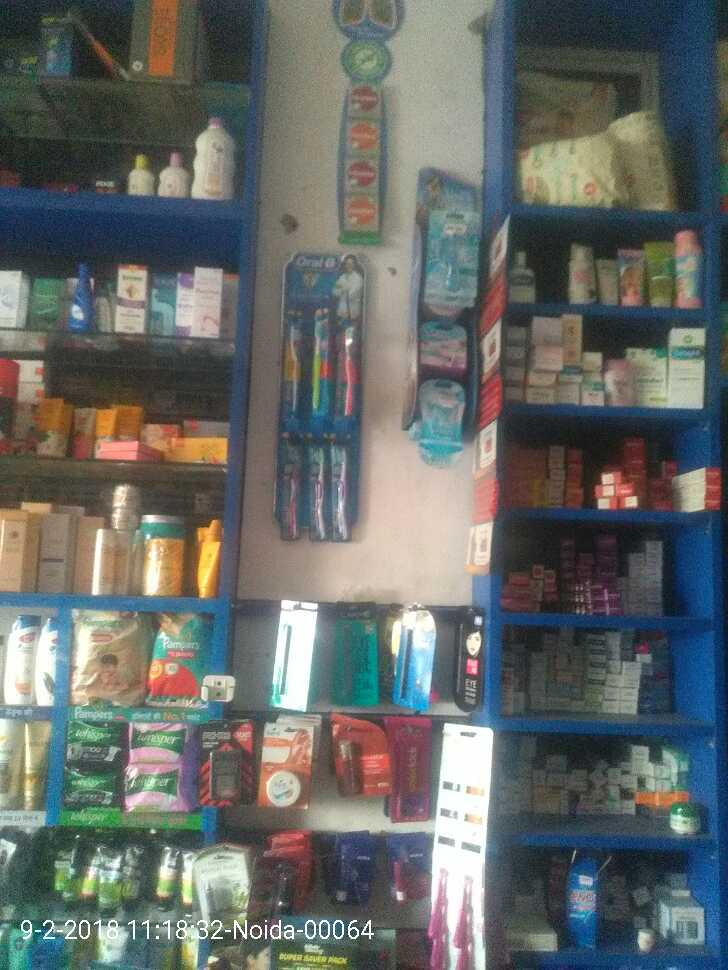beauty: (5, 618, 41, 709), (39, 619, 70, 713)
pharmacy: (144, 609, 208, 693), (120, 762, 195, 812), (336, 301, 363, 437), (307, 298, 335, 426), (276, 438, 308, 546), (323, 443, 355, 544), (60, 721, 126, 769), (61, 762, 123, 813), (279, 304, 305, 421), (127, 713, 186, 762), (304, 444, 330, 546)
venus: (419, 198, 479, 313)
